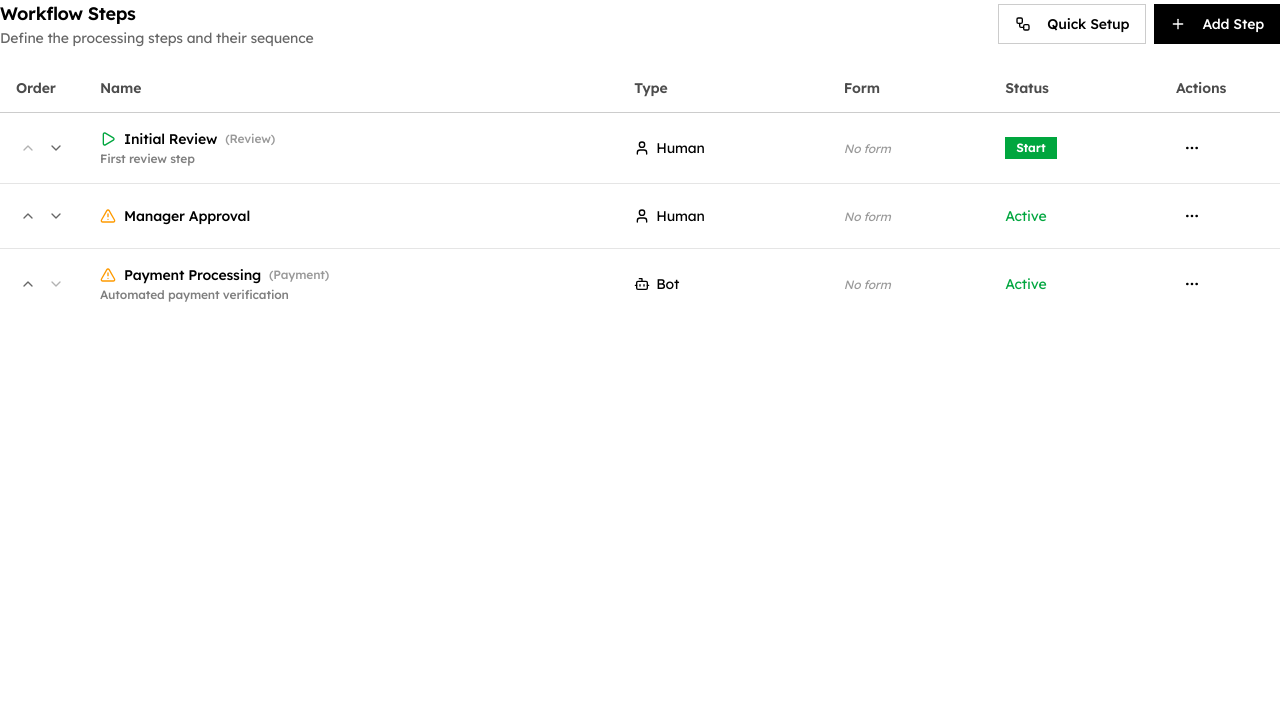
Test: RolesList › Actions › opens edit dialog when Edit Step is clicked
The width and height of the screenshot is (1280, 720).
Click the button named "Actions for". click: {"x": 1192, "y": 148}
box: [1176,132,1208,164]
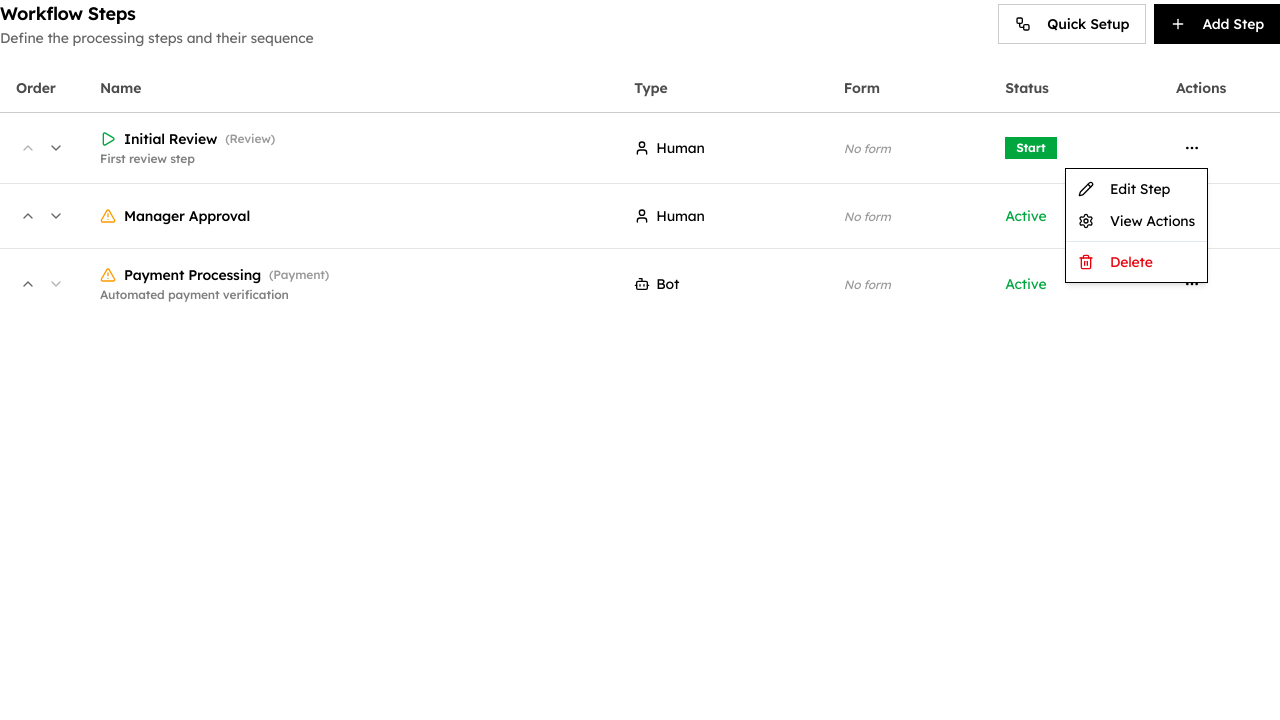
Click the menu item "Edit Step". click: {"x": 1124, "y": 189}
box: [1078,180,1170,198]
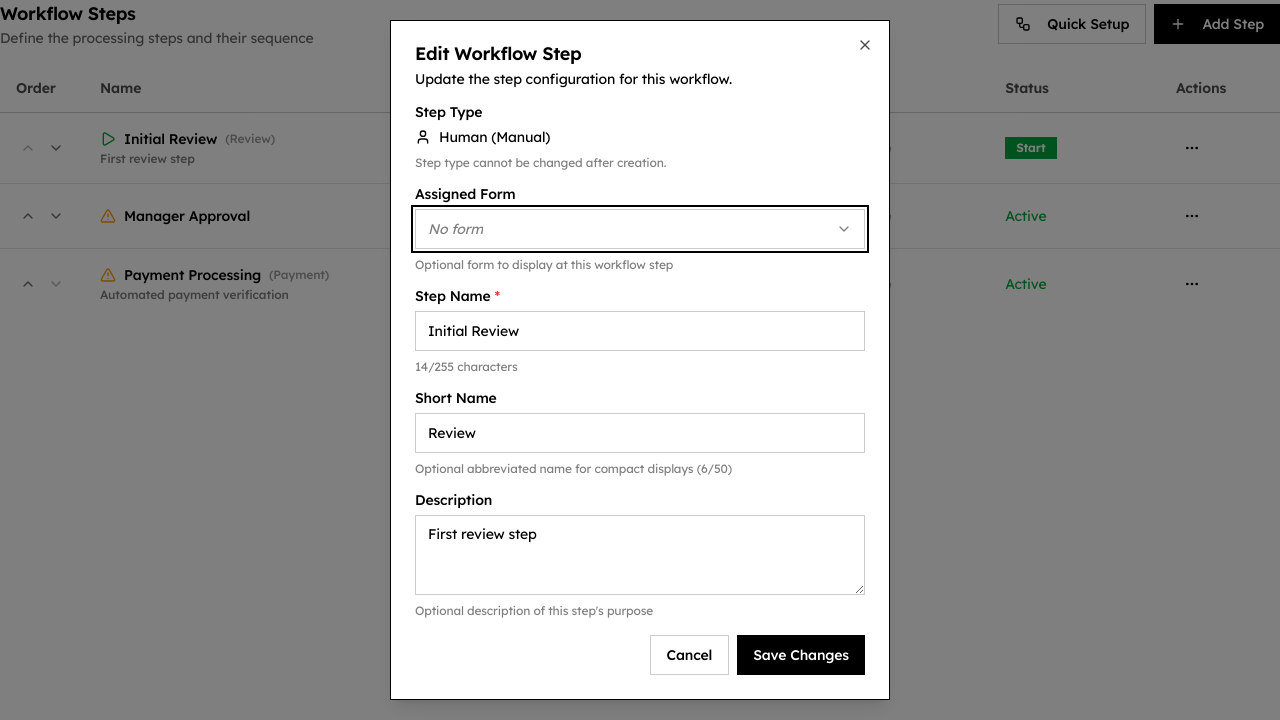
Expected: the heading "Edit Workflow Step" is shown, [415,42,581,65]
